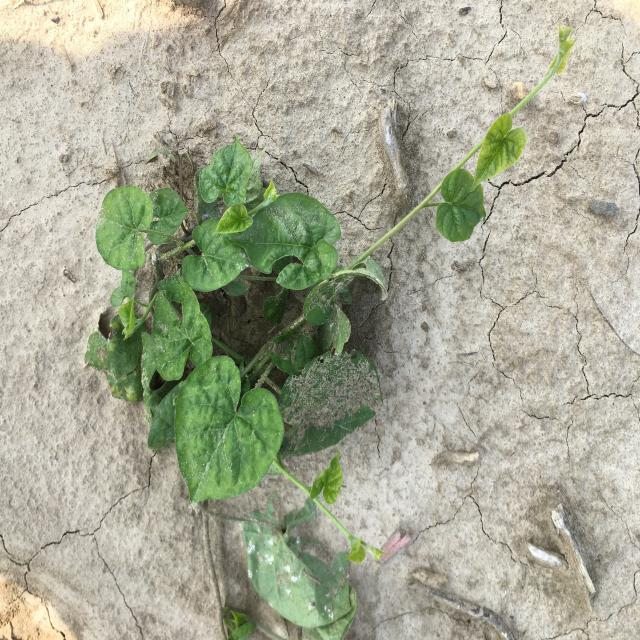MorningGlory: (84, 25, 576, 640)
